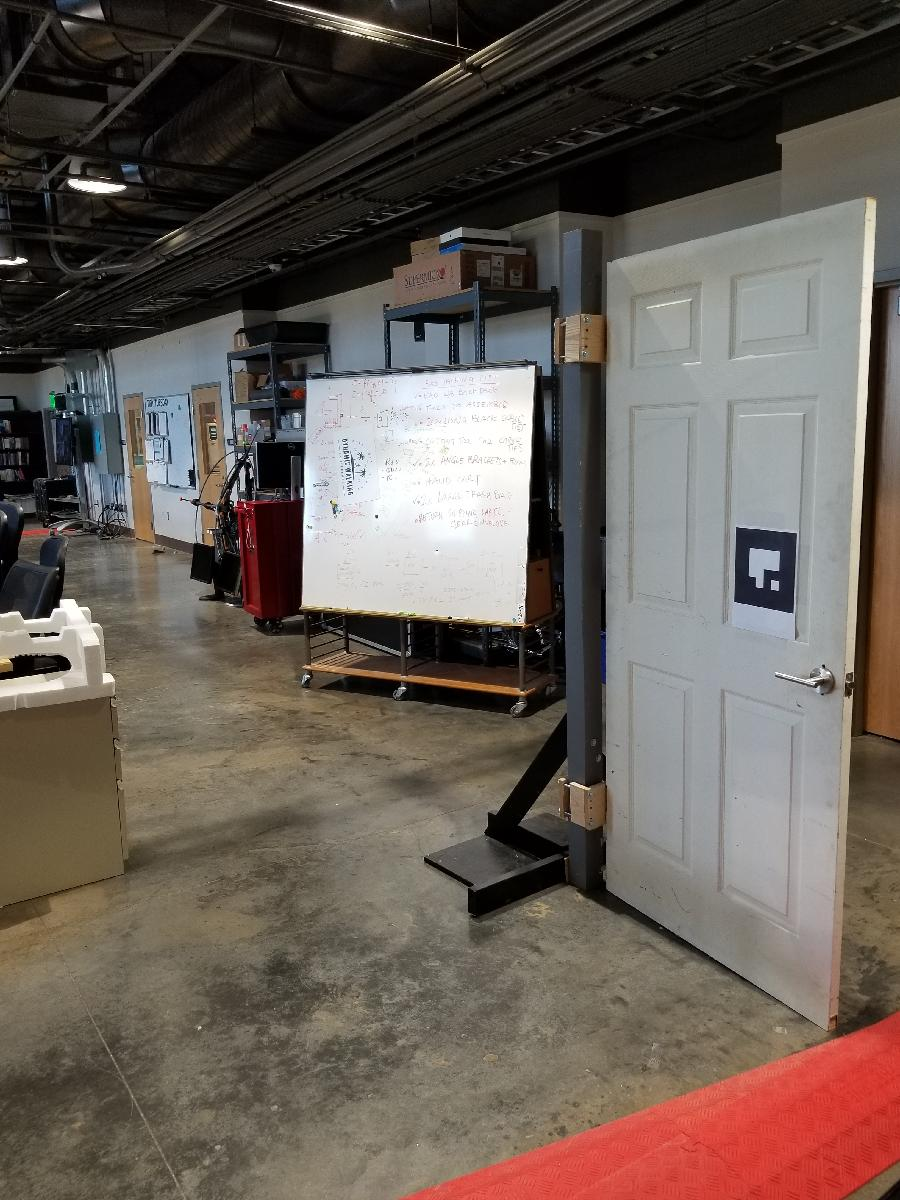door: (599, 194, 882, 1038)
doorHandle: (769, 657, 834, 703)
